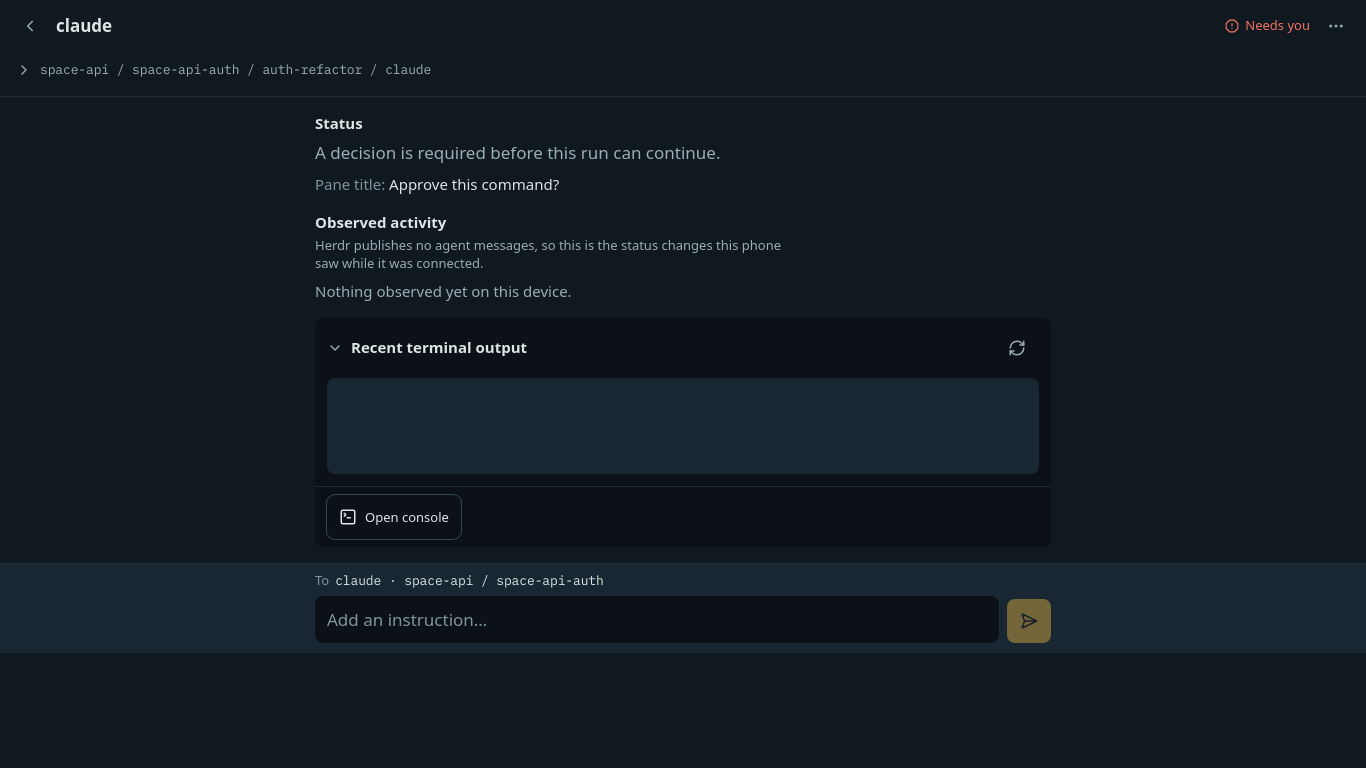
Test case: Run detail — instruction delivery › keeps the draft and explains a stale-generation rejection
In the text box named "instruction for claude": x=657, y=619 top-left (315, 596), bottom-right (999, 643), type "continue"
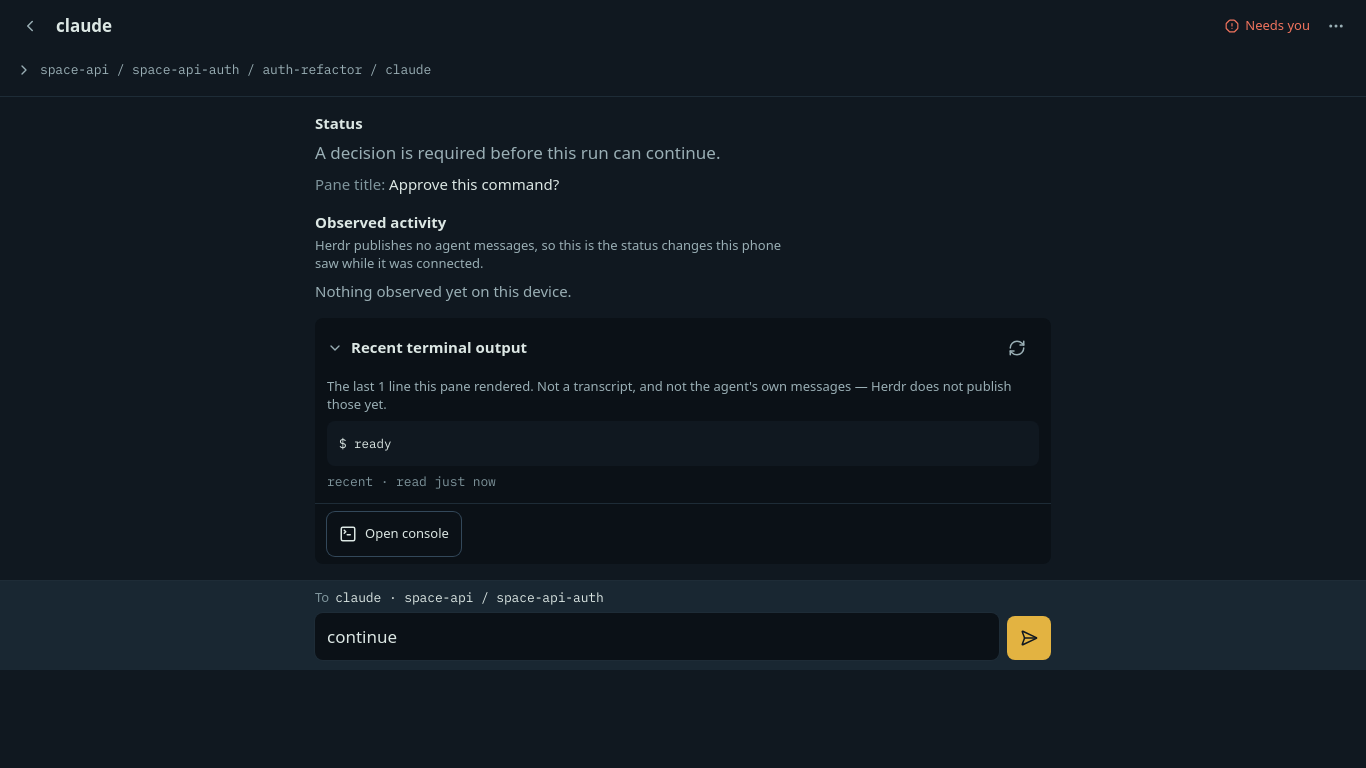
Expected: the button named "send instruction" is enabled
Click the button named "send instruction": x=1029, y=638 top-left (1007, 616), bottom-right (1051, 660)
(page scrolled)
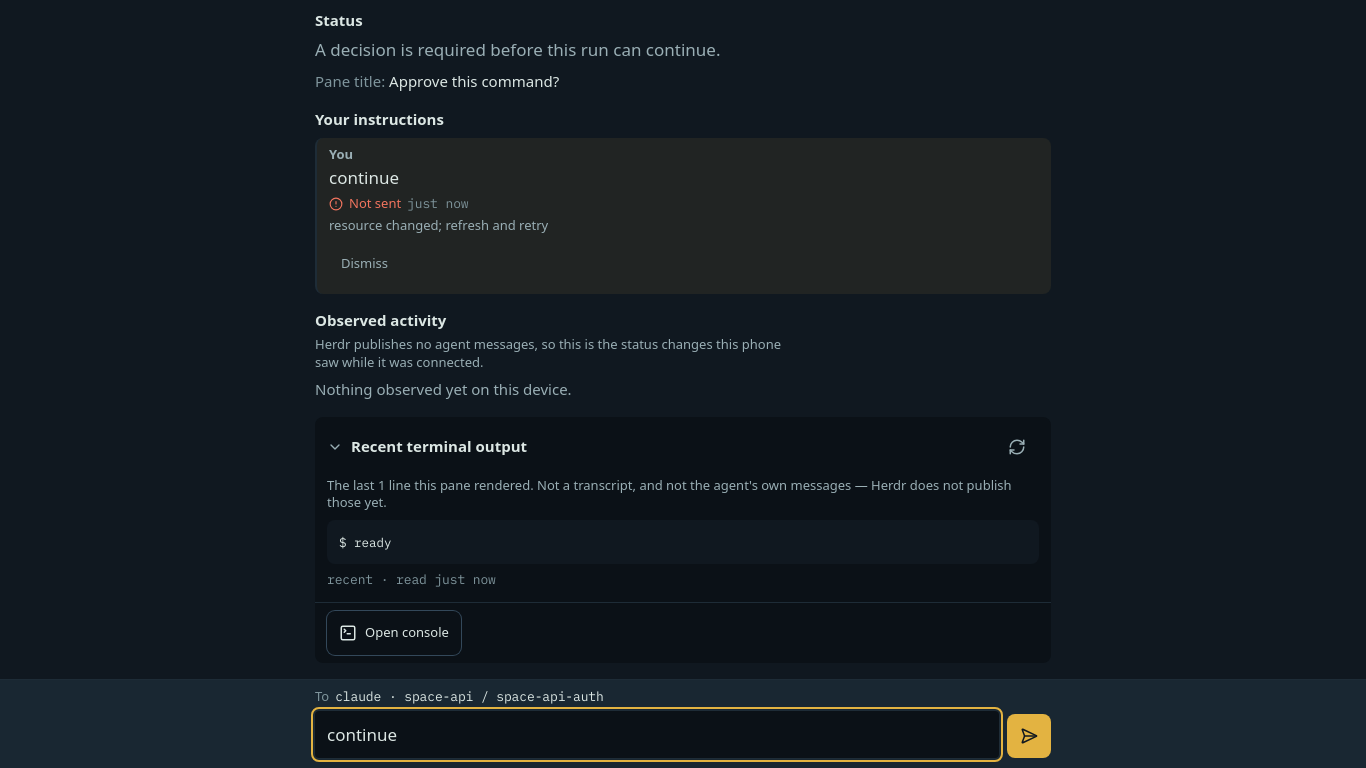
Expected: the text "Not sent" is shown, top-left (349, 194), bottom-right (401, 212)
Expected: the text "resource changed; refresh and retry" is shown, top-left (329, 216), bottom-right (548, 234)
